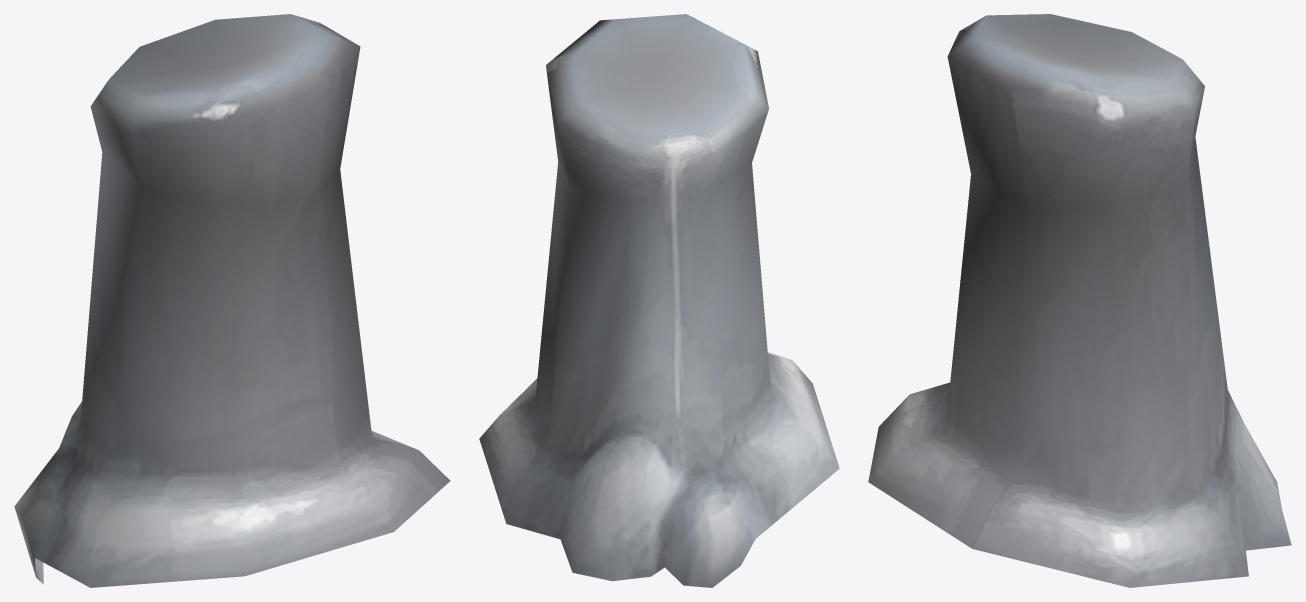
File: A_CR_GEN_Candle_01.fbx
3 views of the same model, side by side, from view 1: azimuth 30°, elevation 25°; view 2: azimuth 150°, elevation 25°; view 3: azimuth 270°, elevation 25° (orthographic). The views are drawn at different scales.
Visible parts, largest first — view 1: A_CR_GEN_Candle_01; view 2: A_CR_GEN_Candle_01; view 3: A_CR_GEN_Candle_01.
Part boxes in pixels (x1,y1,x2,y2): A_CR_GEN_Candle_01: (14, 14, 450, 587); A_CR_GEN_Candle_01: (479, 14, 839, 587); A_CR_GEN_Candle_01: (868, 14, 1291, 587).
Bounding box in the file's own units: 41.26 × 62.12 × 43.31.
1 material, 1 textured.
